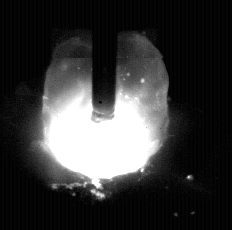arame: (93, 0, 117, 122)
poca: (42, 0, 169, 230)
